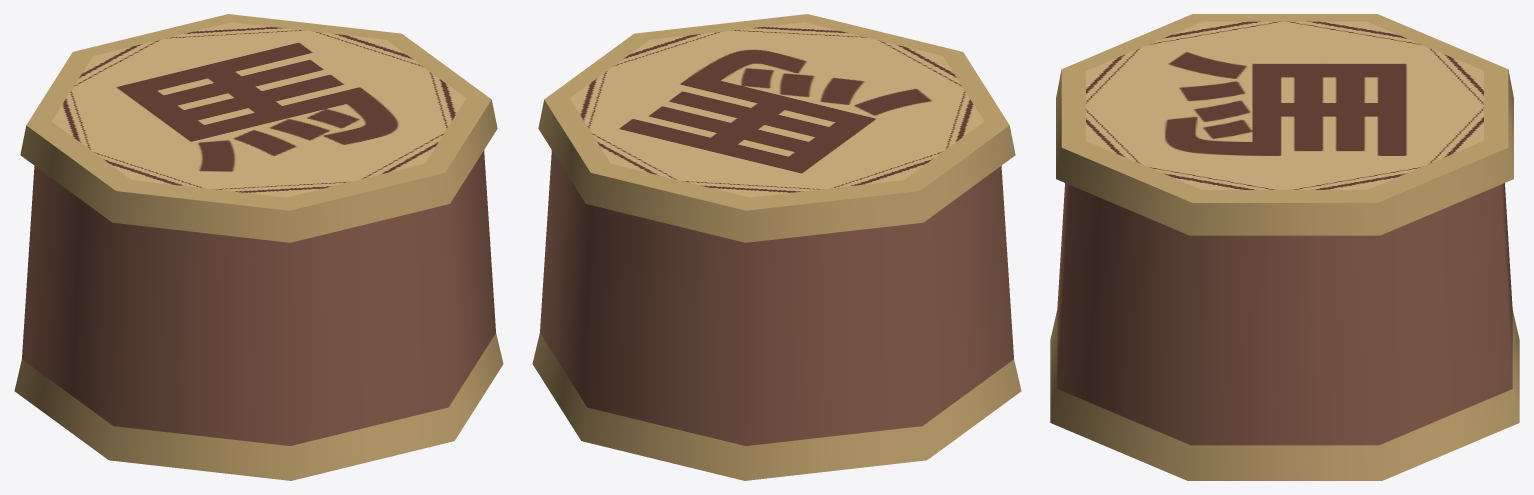
The model's file is Red4.glb.
3 views of the same model, side by side, from view 1: azimuth 30°, elevation 25°; view 2: azimuth 150°, elevation 25°; view 3: azimuth 270°, elevation 25° (orthographic). The views are drawn at different scales.
Visible parts, largest first — view 1: Red4; view 2: Red4; view 3: Red4.
Boxes of the visible parts, left/top/right/bottom form: Red4: left=14, top=14, right=503, bottom=480; Red4: left=532, top=14, right=1021, bottom=480; Red4: left=1050, top=14, right=1519, bottom=480.
Size of the model in its own units: 0.7668 by 0.497 by 0.7668.
Materials: 3 (1 with a texture image).
